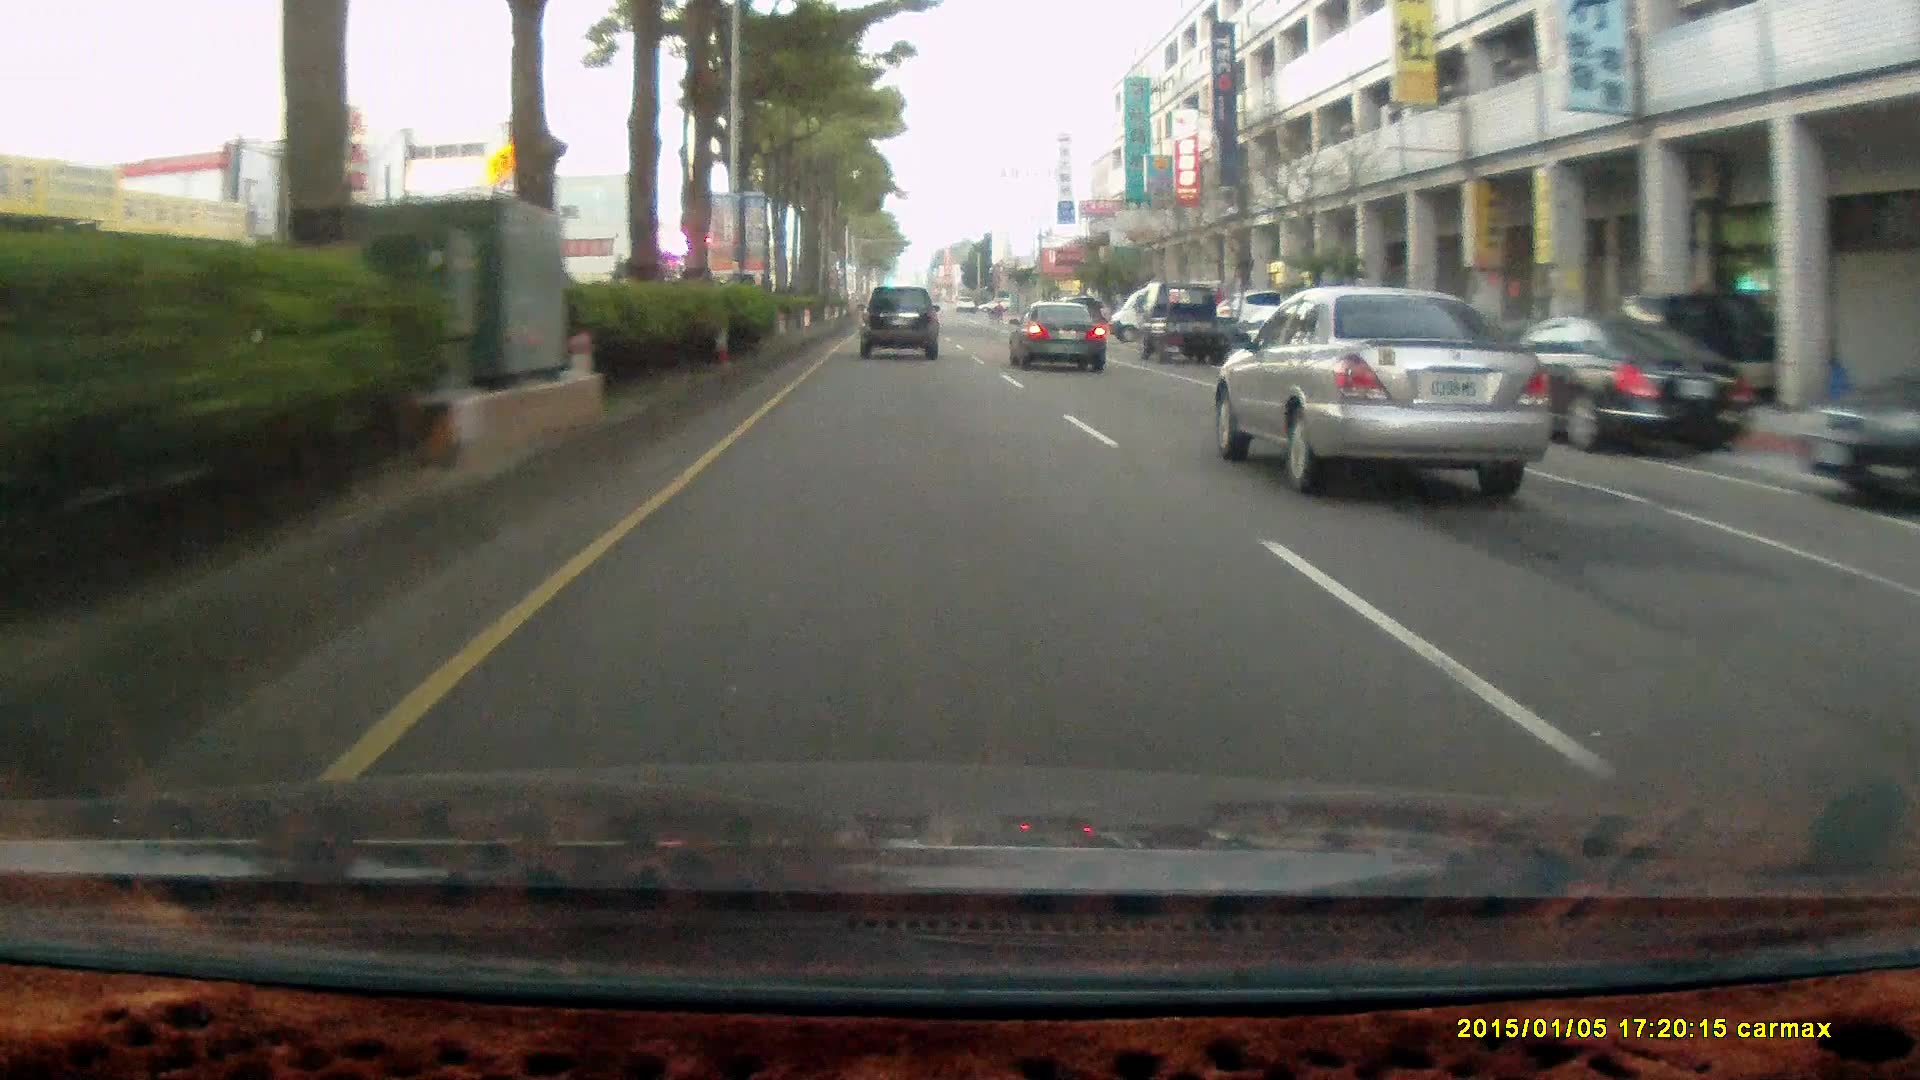vehicle: (1208, 287, 1545, 489), (1466, 306, 1753, 456), (1464, 309, 1753, 454), (1792, 320, 1920, 510), (1792, 372, 1920, 506), (1232, 301, 1365, 382), (1143, 280, 1251, 371), (1137, 277, 1236, 361), (1017, 297, 1116, 369), (1106, 281, 1220, 343), (1006, 297, 1104, 368), (858, 284, 942, 360), (857, 284, 939, 356)
